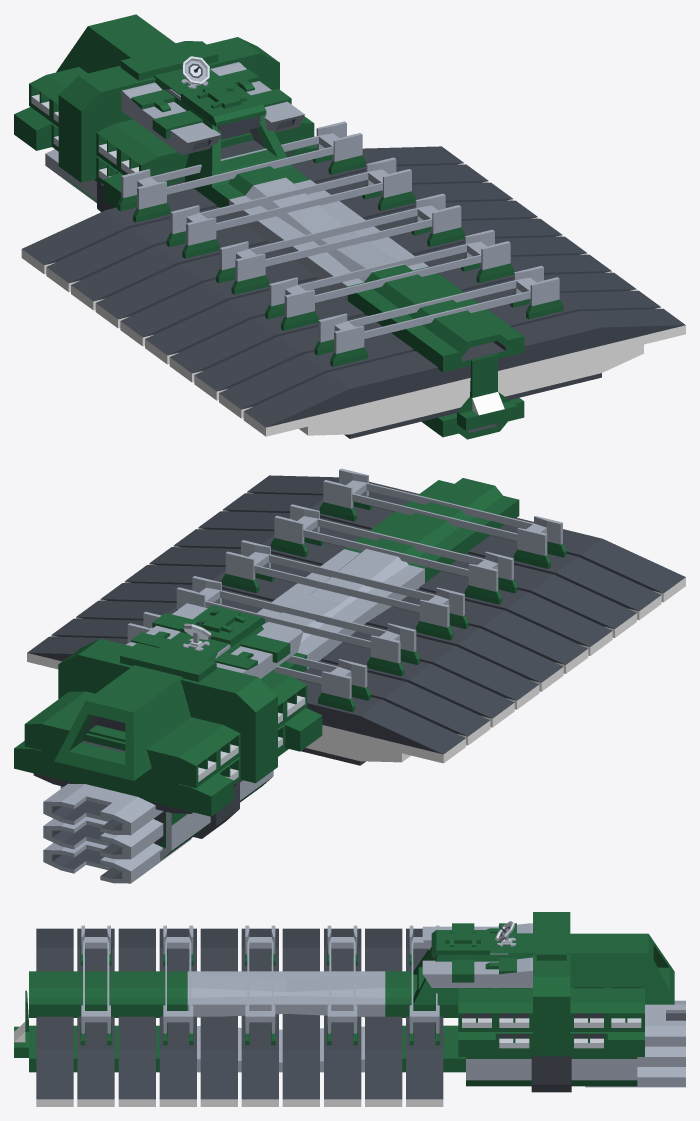
The model's file is cargo_lourd_4.glb.
3 views of the same model, one above another, from view 1: azimuth 30°, elevation 25°; view 2: azimuth 150°, elevation 25°; view 3: azimuth 270°, elevation 25° (orthographic). The views are drawn at different scales.
Parts seen in each view (by area): view 1: mergedBlocks(Clone); view 2: mergedBlocks(Clone); view 3: mergedBlocks(Clone).
Boxes of the visible parts, left/top/right/bottom form: mergedBlocks(Clone): left=14, top=14, right=685, bottom=439; mergedBlocks(Clone): left=14, top=468, right=685, bottom=883; mergedBlocks(Clone): left=14, top=912, right=685, bottom=1106.
Bounding box in the file's own units: 10.82 × 4.43 × 18.
1 material, 1 textured.
